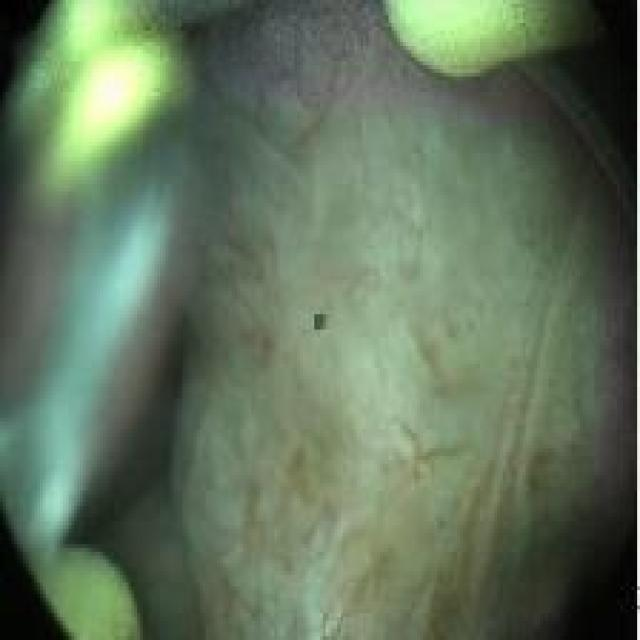color misalignment: (13, 151, 179, 542), (384, 3, 623, 78), (44, 46, 184, 160), (43, 7, 131, 53), (304, 310, 331, 337)
contrast: (466, 477, 634, 631)
instrument: (33, 549, 150, 638)
saturation: (50, 45, 162, 148), (388, 2, 508, 33), (57, 1, 112, 45)
